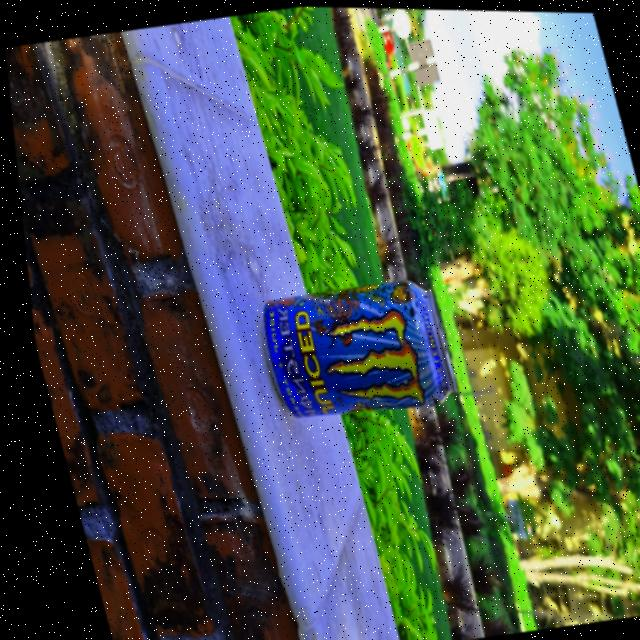Monster Aussie Lemonade: (243, 265, 454, 419)
